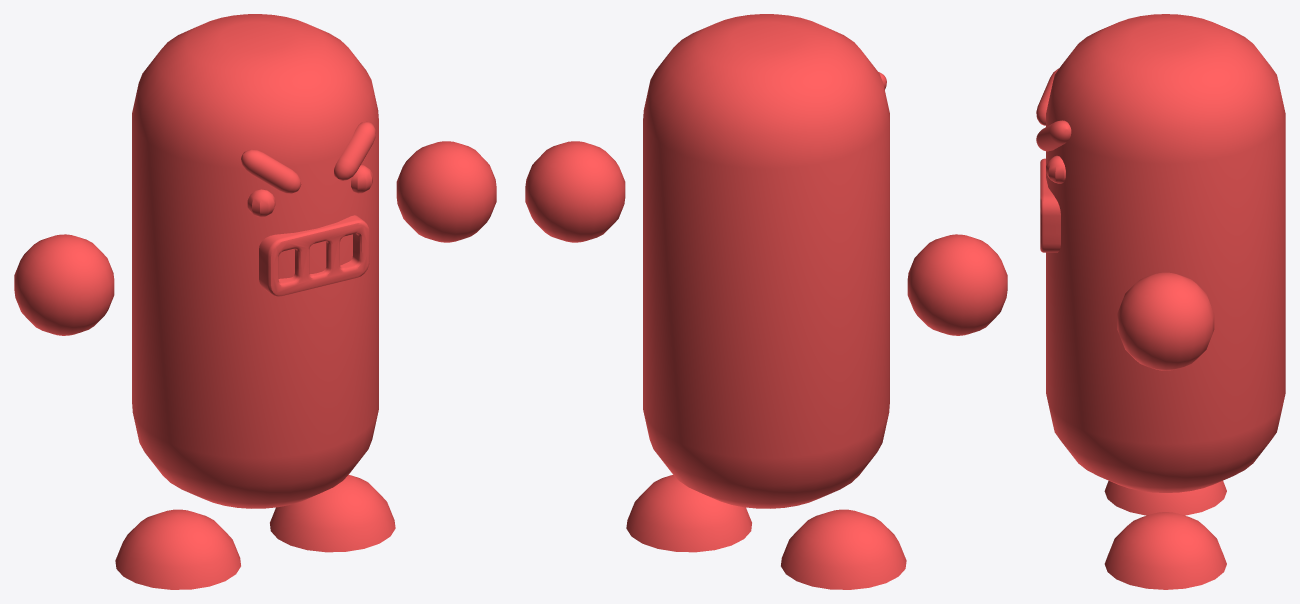
The model's file is angry bean.glb.
3 views of the same model, side by side, from view 1: azimuth 30°, elevation 25°; view 2: azimuth 150°, elevation 25°; view 3: azimuth 270°, elevation 25° (orthographic). The views are drawn at different scales.
Parts seen in each view (by area): view 1: bean; view 2: bean; view 3: bean.
Part boxes in pixels (x1=…): bean: x1=14, y1=14, x2=496, y2=589; bean: x1=525, y1=14, x2=1007, y2=589; bean: x1=1036, y1=14, x2=1285, y2=589.
Bounding box in the file's own units: 4.38 × 4.52 × 2.08.
